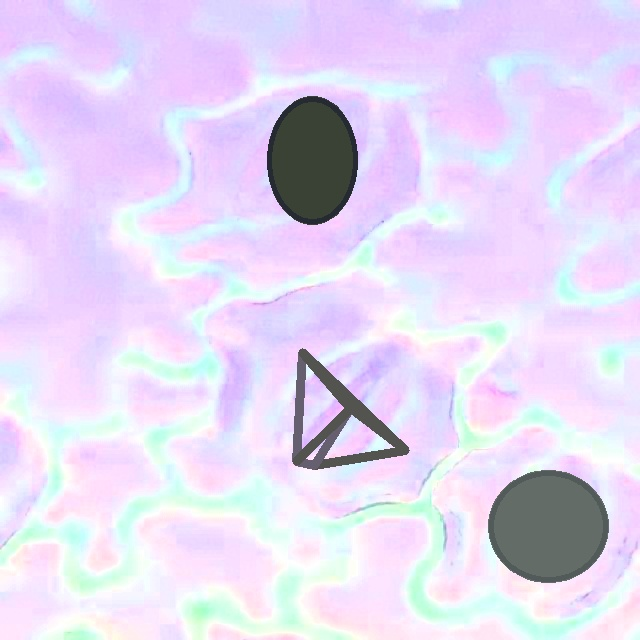open: (292, 348, 409, 469), (488, 469, 608, 582), (266, 96, 357, 224)
